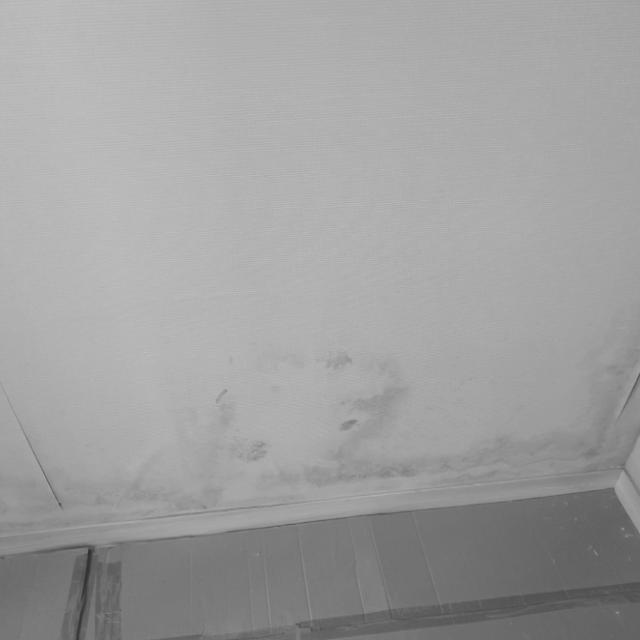stain marks: (408, 336, 636, 521), (4, 340, 232, 517), (233, 340, 409, 518)
